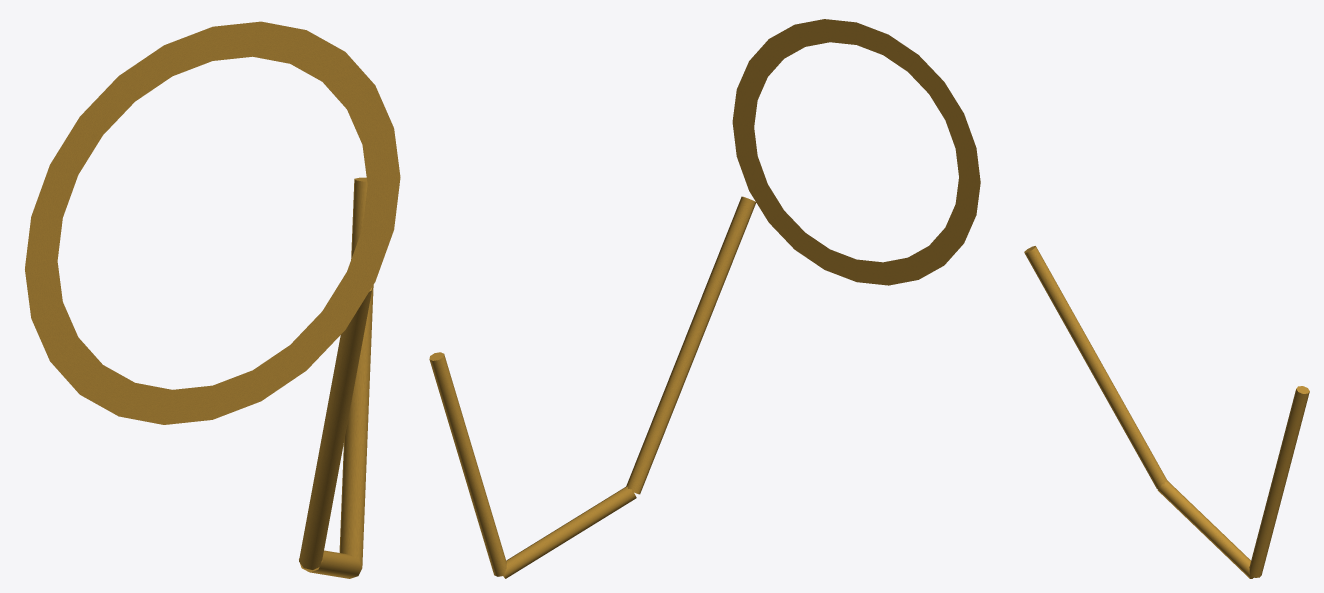
Rendered from reference_monocle.gltf.
3 renders of one model, left to right at view 1: azimuth 30°, elevation 25°; view 2: azimuth 150°, elevation 25°; view 3: azimuth 270°, elevation 25°, orthographic. The views are drawn at different scales.
Parts seen in each view (by area): view 1: Monocle; view 2: Monocle; view 3: Monocle.
Part boxes in pixels (x1,y1,x2,y2): Monocle: [25, 21, 400, 578]; Monocle: [429, 19, 980, 578]; Monocle: [1024, 246, 1309, 578].
Size of the model in its own units: 0.2004 by 0.2511 by 0.1464.
1 material, 1 textured.
